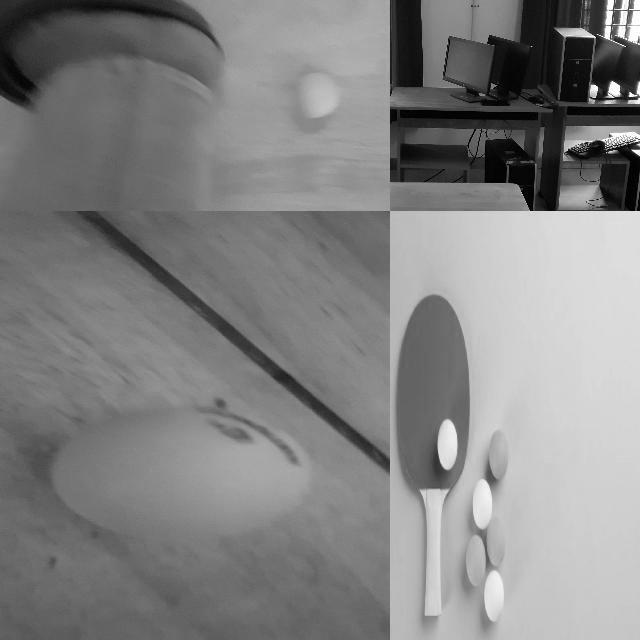ping-pong-ball: (48, 406, 306, 540), (292, 72, 338, 118), (486, 516, 506, 567), (466, 534, 485, 586), (489, 430, 508, 478)
